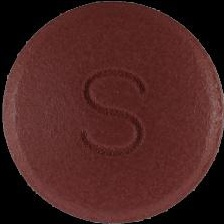61786-611: (0, 0, 224, 224)
